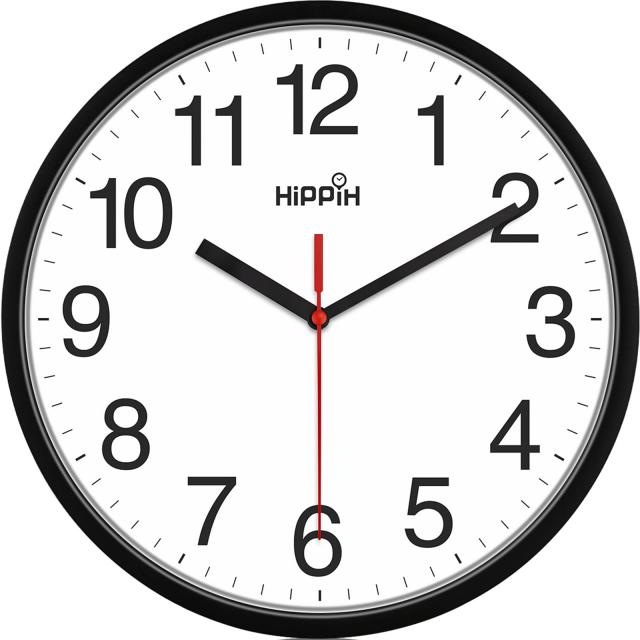clock: (0, 0, 610, 640)
